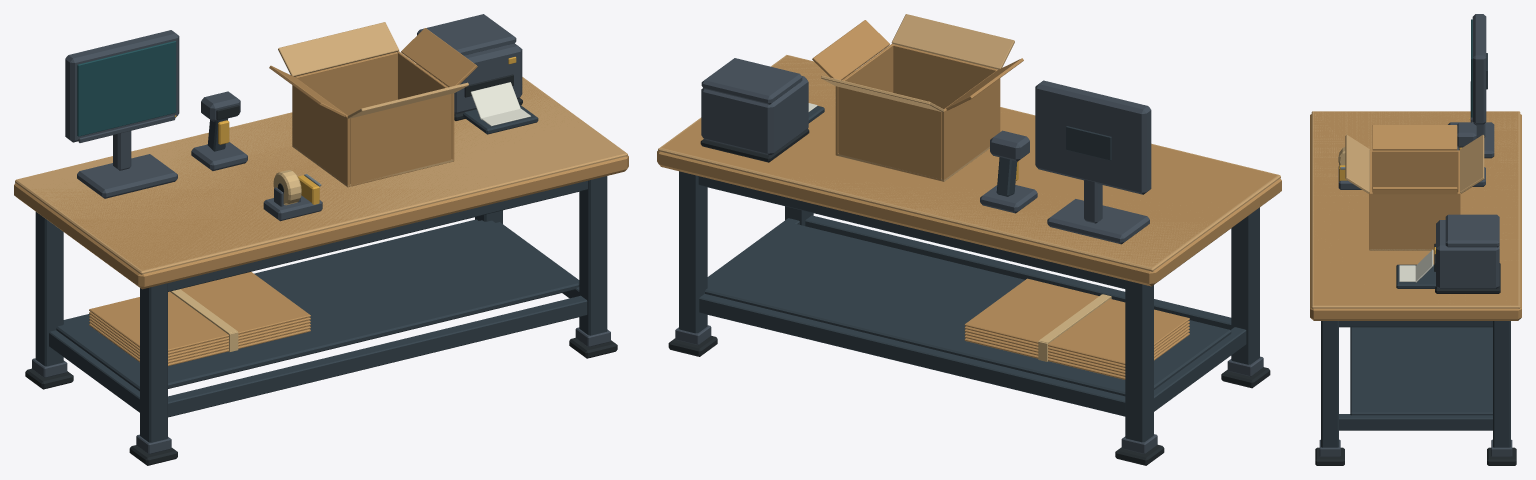
The model's file is packing-station.glb.
3 views of the same model, side by side, from view 1: azimuth 30°, elevation 25°; view 2: azimuth 150°, elevation 25°; view 3: azimuth 270°, elevation 25° (orthographic). The views are drawn at different scales.
Visible parts, largest first — view 1: packing-station__material_05, packing-station__material_11, packing-station__material_10, packing-station__material_03, packing-station__material_06, packing-station__material_07, packing-station__material_02, packing-station__material_09, packing-station__material_04, packing-station__material_01, packing-station__material_08; view 2: packing-station__material_05, packing-station__material_10, packing-station__material_03, packing-station__material_06, packing-station__material_11, packing-station__material_02, packing-station__material_09, packing-station__material_01; view 3: packing-station__material_10, packing-station__material_05, packing-station__material_03, packing-station__material_06, packing-station__material_11, packing-station__material_02, packing-station__material_09, packing-station__material_04.
Boxes of the visible parts, x1,y1,x2,y2 form: packing-station__material_05: (35, 104, 607, 442); packing-station__material_11: (15, 77, 627, 274); packing-station__material_10: (14, 78, 628, 289); packing-station__material_03: (89, 28, 477, 366); packing-station__material_06: (32, 14, 610, 454); packing-station__material_07: (77, 41, 176, 136); packing-station__material_02: (278, 22, 468, 186); packing-station__material_09: (25, 74, 617, 465); packing-station__material_04: (470, 82, 530, 126); packing-station__material_01: (170, 170, 301, 351); packing-station__material_08: (174, 56, 516, 204); packing-station__material_05: (679, 106, 1259, 442); packing-station__material_10: (657, 55, 1281, 286); packing-station__material_03: (812, 20, 1189, 379); packing-station__material_06: (675, 58, 1263, 453); packing-station__material_11: (658, 55, 1280, 271); packing-station__material_02: (821, 14, 1014, 181); packing-station__material_09: (668, 128, 1270, 465); packing-station__material_01: (1038, 294, 1111, 361); packing-station__material_10: (1310, 111, 1521, 320); packing-station__material_05: (1321, 53, 1510, 447); packing-station__material_03: (1369, 125, 1460, 250); packing-station__material_06: (1319, 14, 1512, 456); packing-station__material_11: (1311, 111, 1520, 308); packing-station__material_02: (1345, 134, 1484, 250); packing-station__material_09: (1315, 243, 1516, 465); packing-station__material_04: (1399, 249, 1433, 282).
Bounding box in the file's own units: 2.2 × 1.42 × 1.
